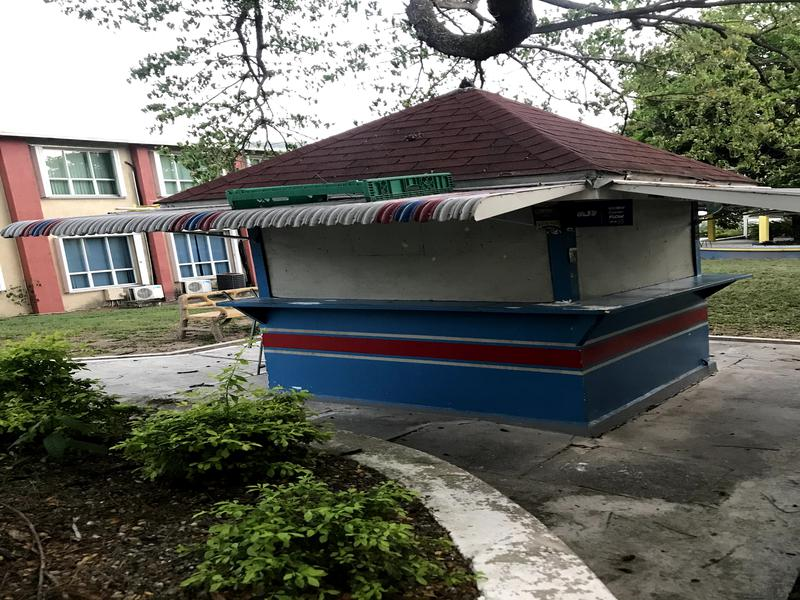18.0051667_-76.74944412_librarystall: (131, 70, 793, 467)
